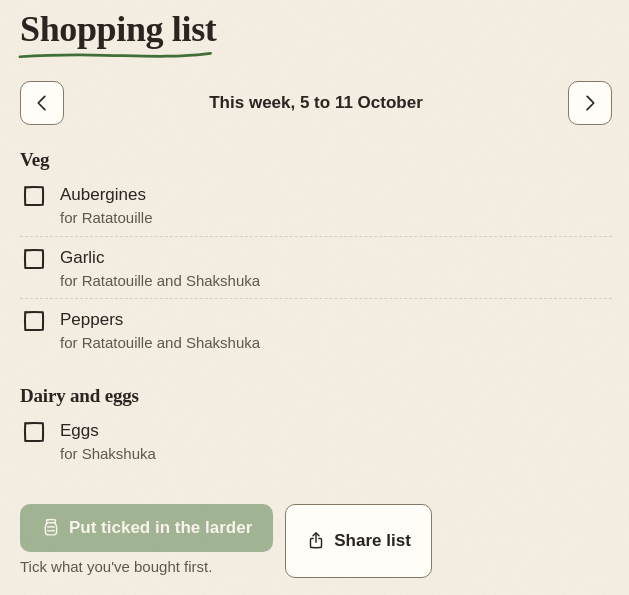
Test: ShopScreen › puts ticked things in the larder and says so
The image size is (629, 595).
Click the checkbox labelled "Garlic".
click(82, 257)  # box top-left (20, 245), bottom-right (260, 289)
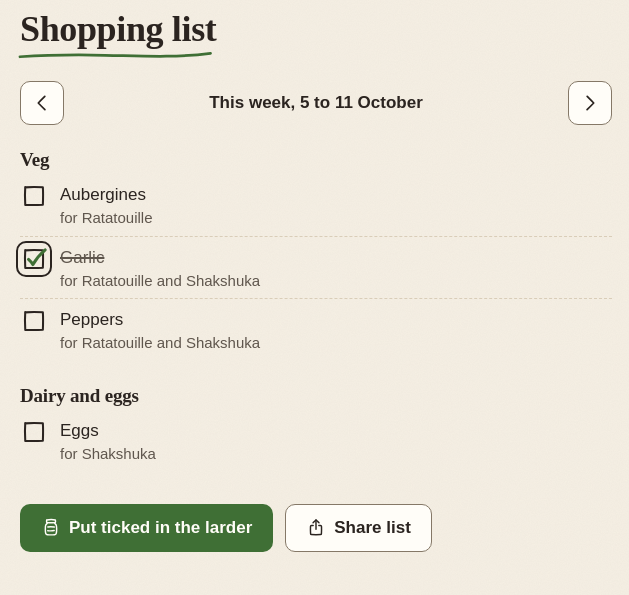
Click the checkbox labelled "Eggs".
click(88, 440)  # box top-left (20, 418), bottom-right (156, 462)
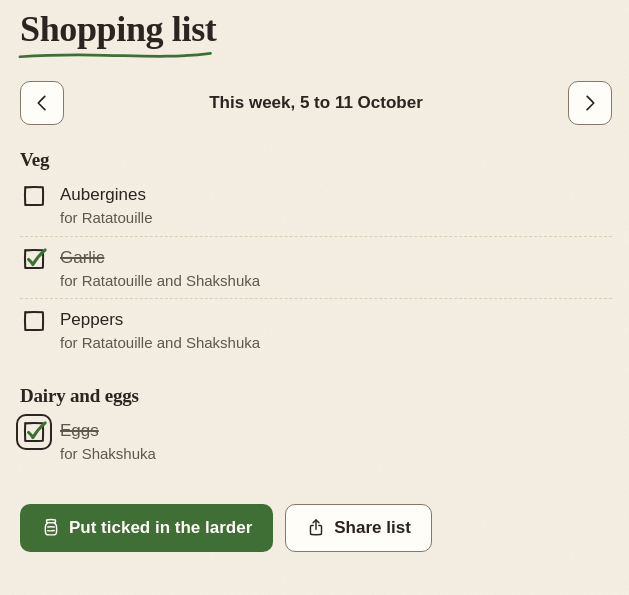
Click the checkbox labelled "Peppers".
click(92, 320)  # box top-left (20, 307), bottom-right (260, 351)
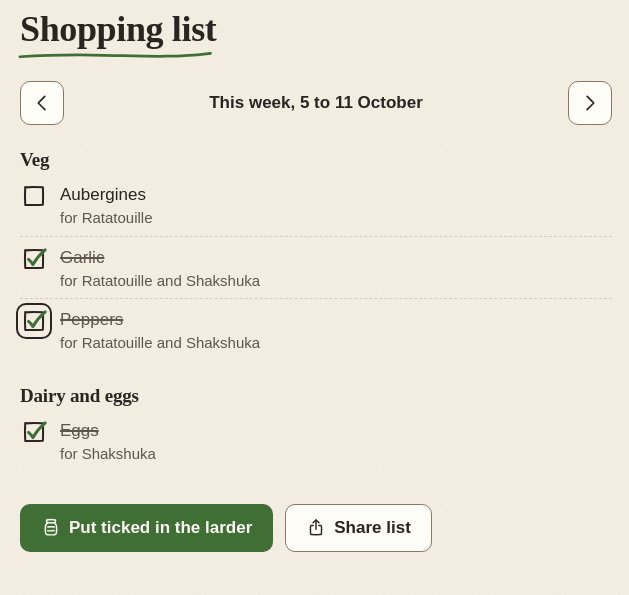
Click the button "Put ticked in the larder".
click(147, 528)  # box top-left (20, 504), bottom-right (273, 552)
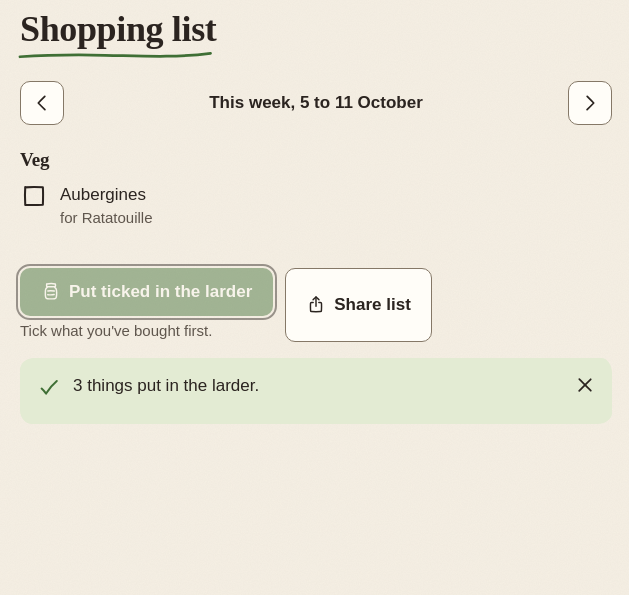
Expected: the checkbox labelled "Aubergines" is not checked, top-left (20, 182), bottom-right (153, 226)
Now the text "3 things put in the larder." is shown, box top-left (73, 376), bottom-right (259, 395)
